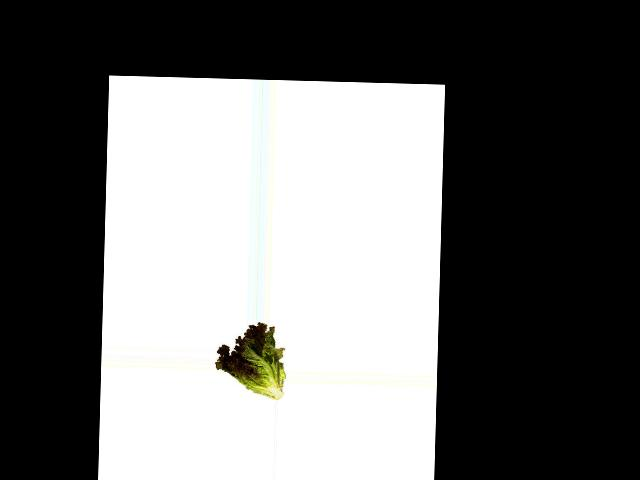lettuce: (215, 320, 286, 399)
